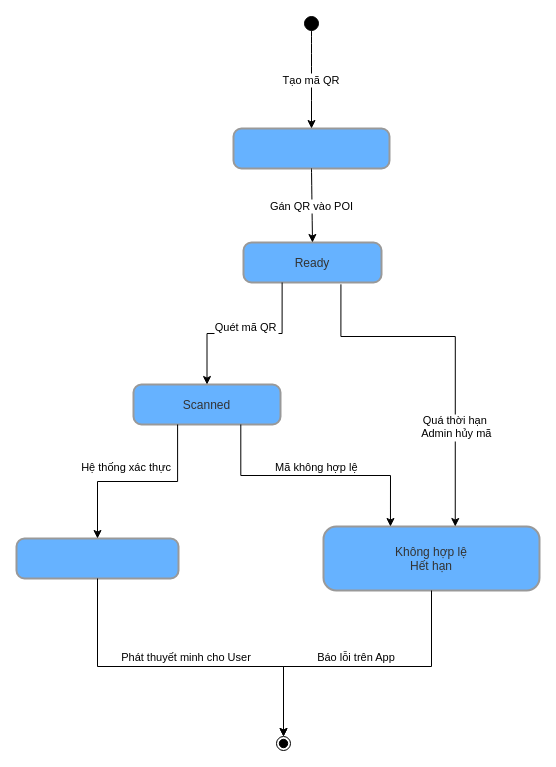
The diagram is 556 pixels wide and 767 high, and some of its shapes have lost their labels. The box of each missing label's shape, as (x1, y1, x2, y2) in pixels:
Generated: (232, 127, 390, 169)
Đã xử lý: (15, 537, 179, 579)
